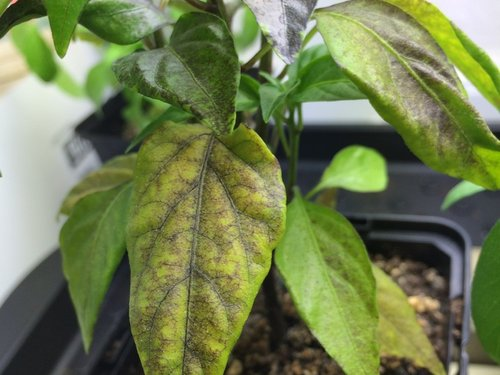unhealthy: (132, 114, 286, 368), (317, 10, 474, 181)
